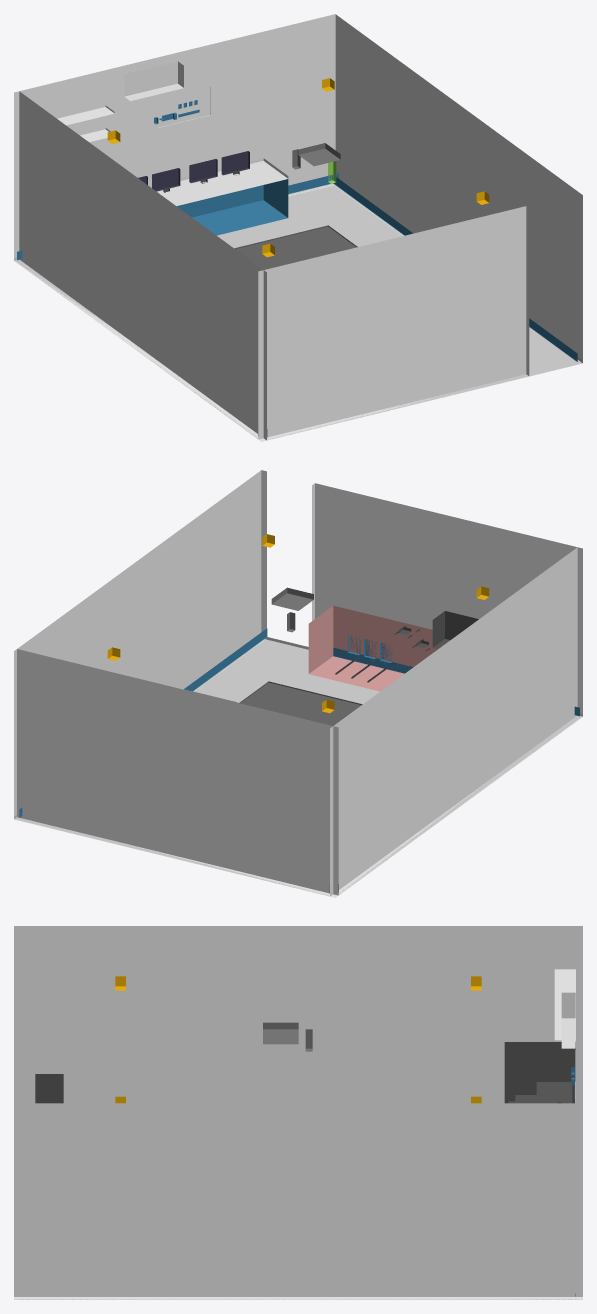
Rendered from SEVA_Lab_Detailed_Final.glb.
3 renders of one model, top to bottom at view 1: azimuth 30°, elevation 25°; view 2: azimuth 150°, elevation 25°; view 3: azimuth 270°, elevation 25°, orthographic. The views are drawn at different scales.
Visible parts, largest first — view 1: Wall_South_Partial, Wall_West_Main, Wall_East_Main, Wall_North_Main, Main_Floor, Command_Desk_Structure, Tracking_Arena_Matte, Command_Desk_Top, Wall_AC_Unit, Nameplate_Base, Wall_East_Accent, Wall_North_Accent (+4 smaller); view 2: Wall_North_Main, Wall_West_Main, Wall_East_Main, Wall_South_Partial, Main_Floor, Hardware_Workbench_Top, Tracking_Arena_Matte, LiPo_Safe_Cabinet, Wall_East_Accent, Wall_South_Accent, Ceiling_Fan_Industrial; view 3: Wall_East_Main, Wall_West_Main, Server_Rack_Frame, Wall_North_Main, Network_Switch_1U, LiPo_Safe_Cabinet, Wall_AC_Unit, Ceiling_Fan_Industrial, Lab_Shelf_2, Wall_South_Partial, Main_Floor, NAS_4U.
Boxes of the visible parts, left/top/right/bottom form: Wall_South_Partial: left=258, top=206, right=529, bottom=441; Wall_West_Main: left=14, top=91, right=266, bottom=441; Wall_East_Main: left=330, top=14, right=582, bottom=360; Wall_North_Main: left=14, top=14, right=338, bottom=259; Main_Floor: left=14, top=183, right=582, bottom=441; Command_Desk_Structure: left=177, top=179, right=288, bottom=235; Tracking_Arena_Matte: left=234, top=225, right=357, bottom=269; Command_Desk_Top: left=149, top=158, right=288, bottom=205; Wall_AC_Unit: left=124, top=61, right=183, bottom=100; Nameplate_Base: left=156, top=87, right=210, bottom=127; Wall_East_Accent: left=333, top=177, right=577, bottom=361; Wall_North_Accent: left=17, top=173, right=338, bottom=260; Wall_North_Main: left=14, top=649, right=338, bottom=897; Wall_West_Main: left=330, top=547, right=582, bottom=897; Wall_East_Main: left=14, top=470, right=266, bottom=815; Wall_South_Partial: left=312, top=483, right=582, bottom=716; Main_Floor: left=14, top=637, right=582, bottom=897; Hardware_Workbench_Top: left=308, top=605, right=437, bottom=691; Tracking_Arena_Matte: left=239, top=681, right=362, bottom=725; LiPo_Safe_Cabinet: left=432, top=611, right=478, bottom=648; Wall_East_Accent: left=19, top=628, right=267, bottom=817; Wall_South_Accent: left=333, top=647, right=579, bottom=716; Ceiling_Fan_Industrial: left=271, top=587, right=313, bottom=610; Wall_East_Main: left=14, top=1103, right=582, bottom=1299; Wall_West_Main: left=14, top=926, right=582, bottom=1103; Server_Rack_Frame: left=504, top=1042, right=575, bottom=1103; Wall_North_Main: left=576, top=926, right=582, bottom=1299; Network_Switch_1U: left=536, top=1079, right=572, bottom=1102; LiPo_Safe_Cabinet: left=35, top=1074, right=63, bottom=1103; Wall_AC_Unit: left=561, top=992, right=575, bottom=1048; Ceiling_Fan_Industrial: left=263, top=1022, right=298, bottom=1044; Lab_Shelf_2: left=554, top=967, right=575, bottom=1014; Wall_South_Partial: left=14, top=926, right=20, bottom=1103; Main_Floor: left=14, top=1298, right=582, bottom=1299; NAS_4U: left=515, top=1083, right=571, bottom=1103.
Bounding box in the file's own units: 6 × 3 × 8.
